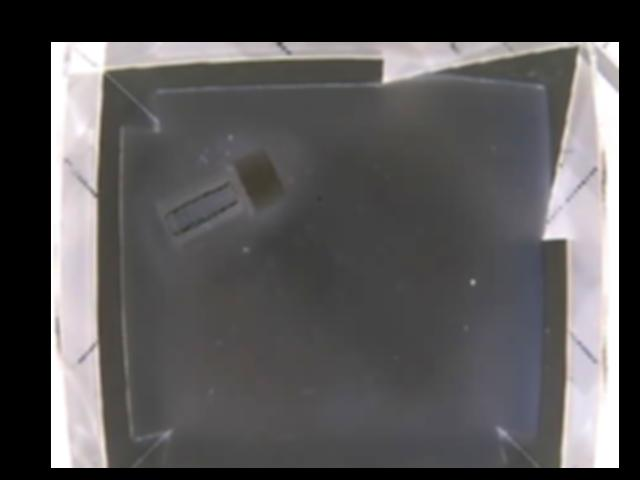Bottle: (153, 146, 284, 247)
